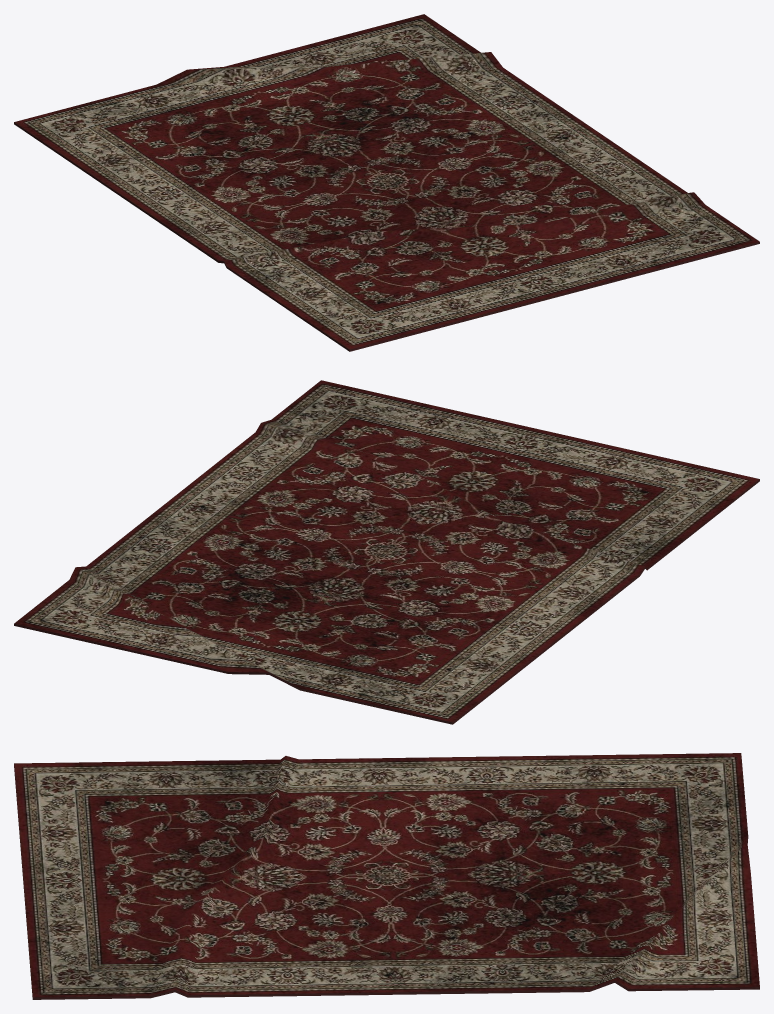
Rendered from rug3d.glb.
The picture shows the model from 3 angles, top to bottom: view 1: azimuth 30°, elevation 25°; view 2: azimuth 150°, elevation 25°; view 3: azimuth 270°, elevation 25°; orthographic projection. The views are drawn at different scales.
Parts seen in each view (by area): view 1: halı2; view 2: halı2; view 3: halı2.
Boxes of the visible parts, x1,y1,x2,y2 form: halı2: (14, 14, 759, 351); halı2: (14, 380, 759, 724); halı2: (14, 753, 759, 999).
Size of the model in its own units: 3.72 by 0.0794 by 4.79.
1 material, 1 textured.
